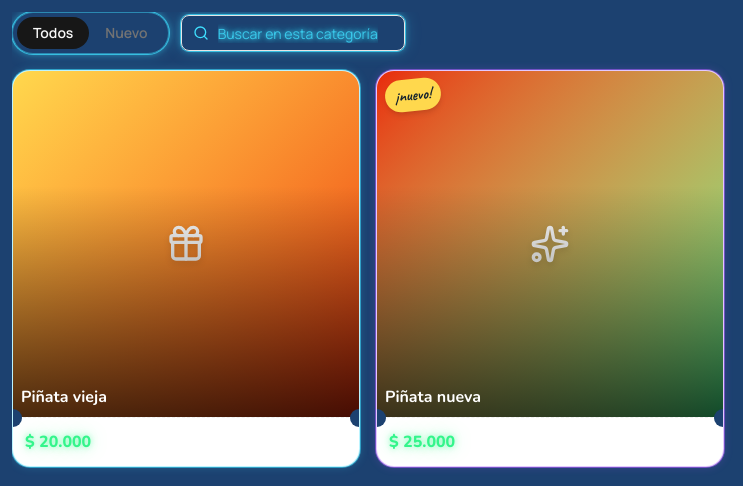
Test: CategoryProductsFilter › combines the text search with the Nuevo tab
Click the radio button labelled "Nuevo": (126, 33) [89, 17, 164, 49]
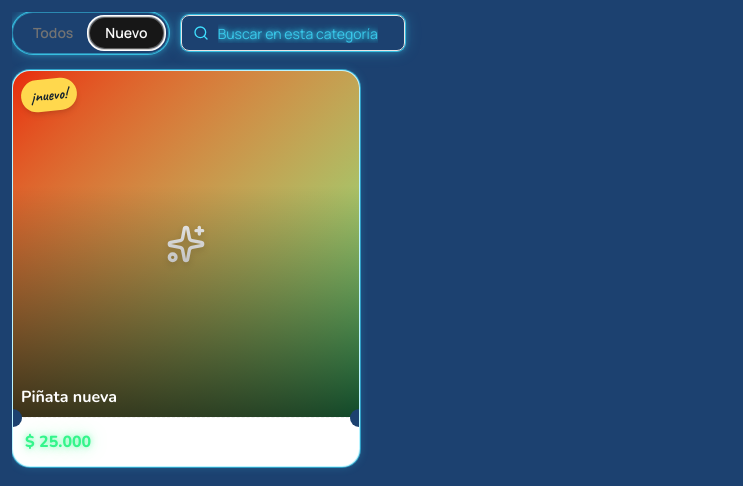
In the search field labelled "Buscar en esta categoría": (293, 33) [181, 15, 405, 51], type "vieja"
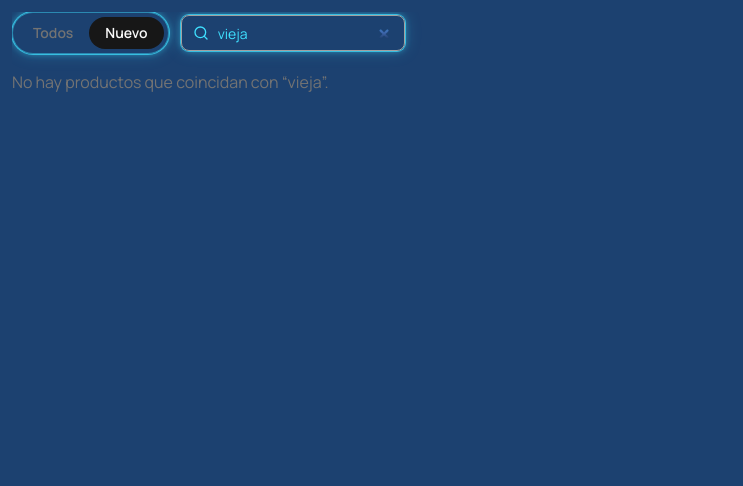
expect the text "No hay productos que coincidan con “vieja”." is shown: met, box [12, 71, 328, 93]
